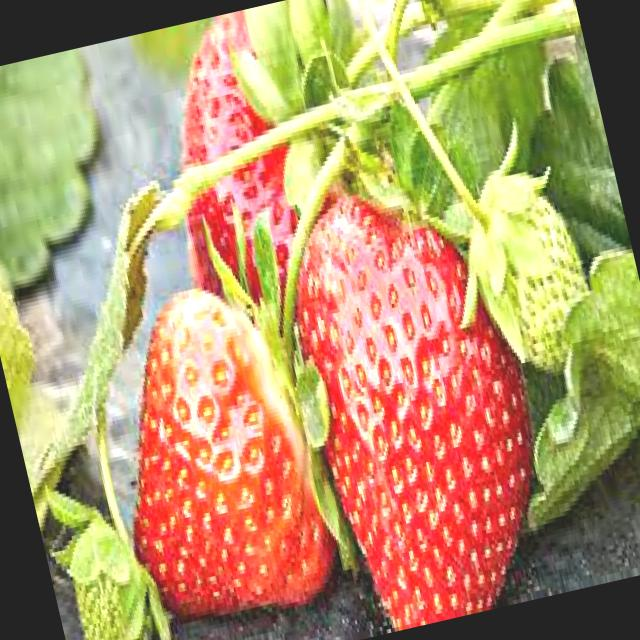strawberry: (264, 152, 572, 638), (67, 265, 365, 640)
